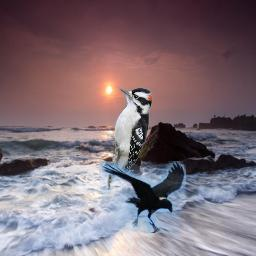Crow: (99, 161, 186, 233)
Woodpecker: (107, 83, 157, 190)
